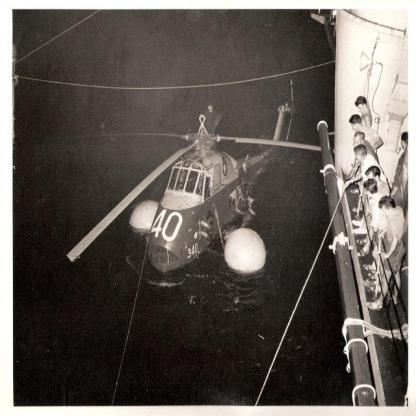face: (383, 209, 391, 220), (370, 176, 377, 188), (355, 137, 362, 147), (358, 105, 365, 114), (356, 154, 362, 164), (352, 124, 358, 132)
